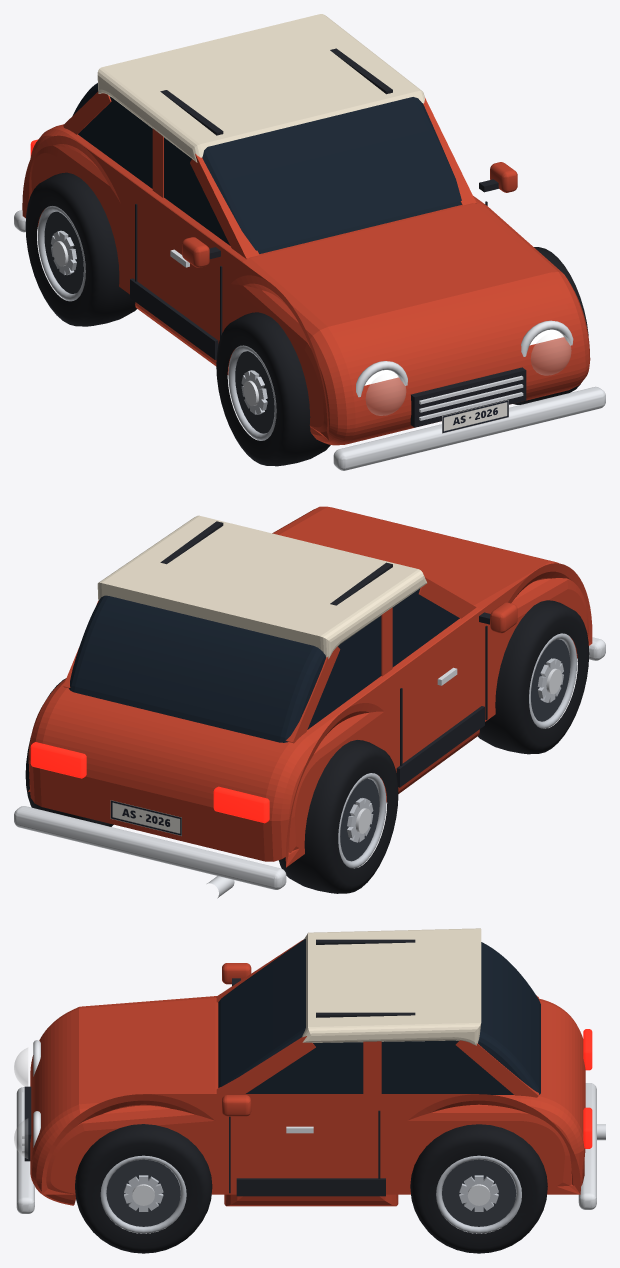
File: car.glb
The picture shows the model from 3 angles, top to bottom: view 1: azimuth 30°, elevation 25°; view 2: azimuth 150°, elevation 25°; view 3: azimuth 270°, elevation 25°; orthographic projection. The views are drawn at different scales.
Visible parts, largest first — view 1: car, Wheel_RR, Wheel_FR, object 24, object 14, object 8, object 20, object 23, object 25, Wheel_FL, object 13, object 18 (+2 smaller); view 2: car, Wheel_RR, Wheel_FR, object 28, object 8, object 27, object 26, object 29, object 13, Wheel_RL; view 3: car, Wheel_RL, Wheel_FL, object 2, object 28, object 24, object 7, object 14, object 13.
Part boxes in pixels (<box>): car: <box>22,14,590,445</box>; Wheel_RR: <box>25,172,136,326</box>; Wheel_FR: <box>216,312,330,466</box>; object 24: <box>333,386,605,470</box>; object 14: <box>410,367,526,427</box>; object 8: <box>130,278,218,359</box>; object 20: <box>531,332,571,375</box>; object 23: <box>366,373,405,415</box>; object 25: <box>442,400,508,433</box>; Wheel_FL: <box>513,247,588,404</box>; object 13: <box>182,237,209,267</box>; object 18: <box>521,320,573,356</box>; car: <box>28,506,592,867</box>; Wheel_RR: <box>279,740,398,893</box>; Wheel_FR: <box>478,600,589,754</box>; object 28: <box>14,806,286,889</box>; object 8: <box>396,706,484,787</box>; object 27: <box>213,786,269,823</box>; object 26: <box>30,742,86,778</box>; object 29: <box>110,800,181,835</box>; object 13: <box>490,602,517,633</box>; Wheel_RL: <box>25,678,113,826</box>; car: <box>30,928,585,1206</box>; Wheel_RL: <box>410,1124,547,1253</box>; Wheel_FL: <box>75,1124,212,1253</box>; object 2: <box>236,1178,385,1196</box>; object 28: <box>578,1083,596,1209</box>; object 24: <box>16,1087,34,1213</box>; object 7: <box>222,1095,251,1116</box>; object 14: <box>24,1086,31,1161</box>; object 13: <box>222,963,251,984</box>.
Size of the model in its own units: 1.45 by 1.06 by 2.61.
13 materials, 2 textured.
